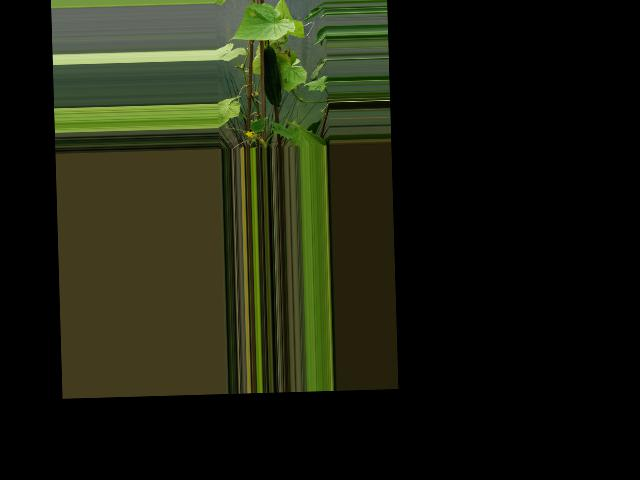cucumber: (263, 46, 282, 106)
